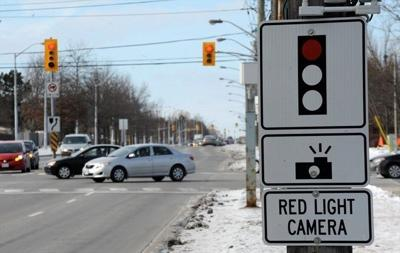red: (44, 38, 58, 71), (203, 42, 215, 66)
